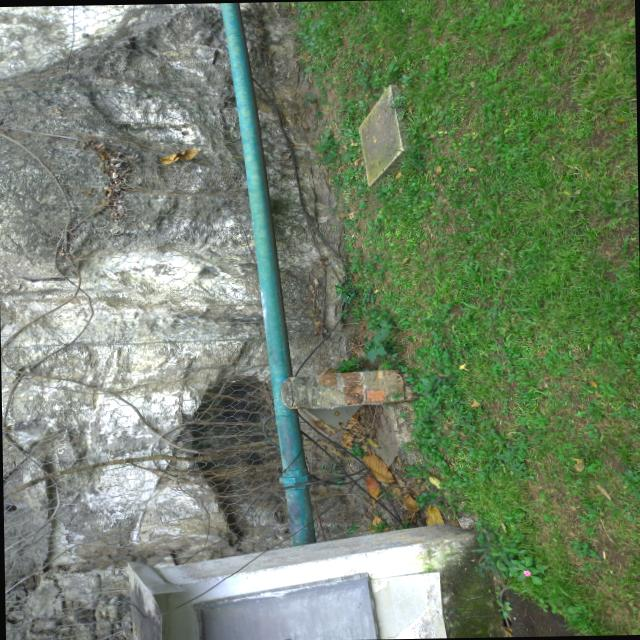gas: (220, 1, 313, 534)
